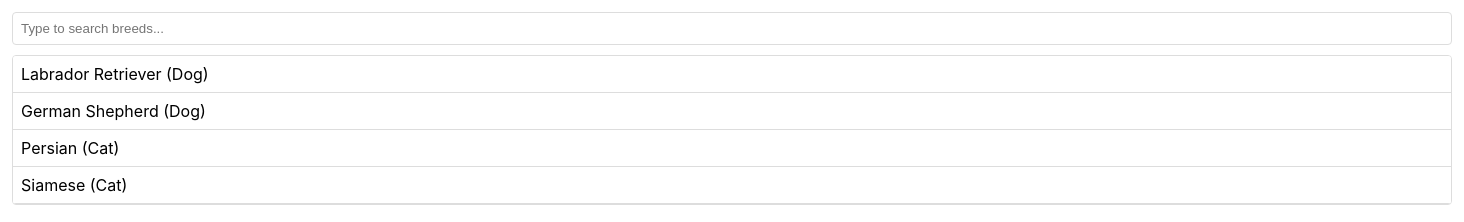
Test case: BreedSelector Component › filters breeds based on search input
Expected: the list item "Labrador Retriever (Dog)" is shown, [13,56,1451,93]
Type "persian" into the field with placeholder "Type to search breeds..." at (732, 28), box [12,12,1452,45]
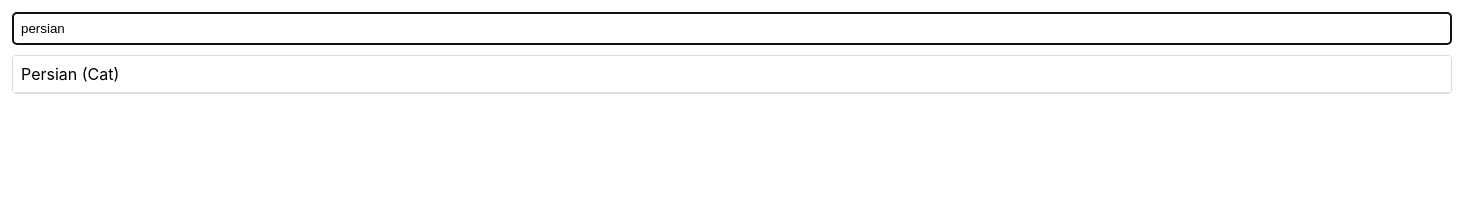
Expected: the list item "Persian (Cat)" is shown, [13,56,1451,93]
Expected: the list item "Labrador Retriever (Dog)" is gone
